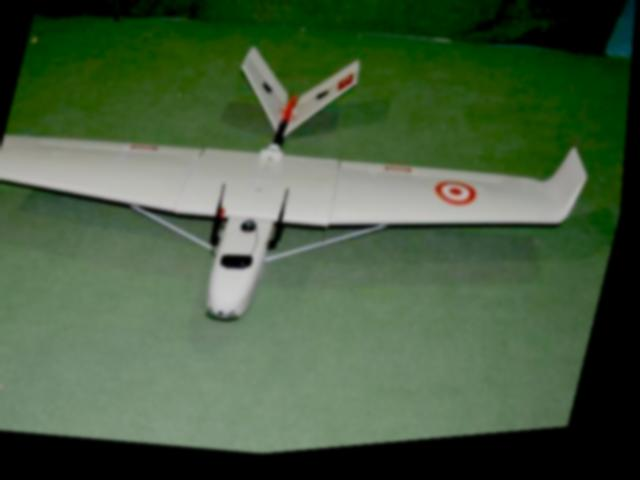iha: (0, 0, 630, 408)
